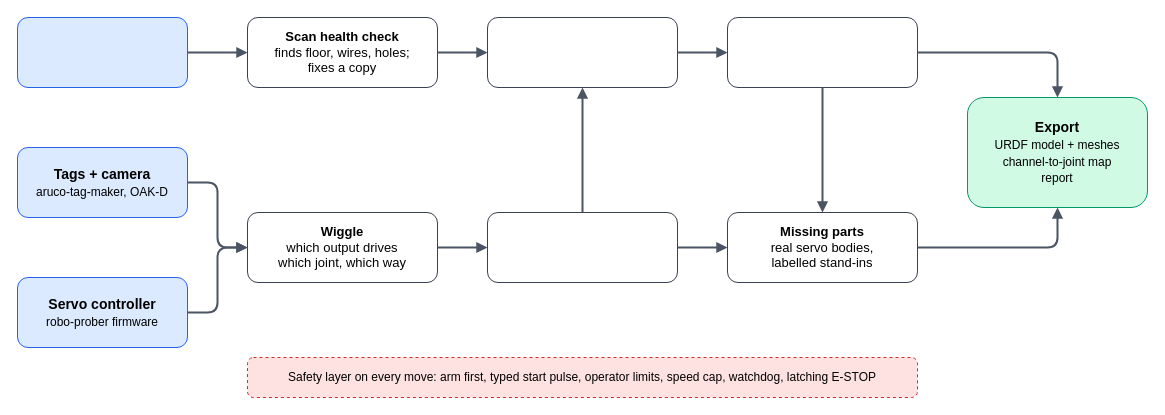
This 1165x415 diagram has some shape labels left out. The box of each missing label's shape, as (x1, y1, x2, y2) in pixels:
3D scan OBJ, PLY, STL or GLB file: (16, 16, 188, 88)
Cut links split the scan into moving parts: (726, 16, 918, 88)
Range of motion real axis, pivot and safe limits: (486, 212, 678, 282)
Register line the scan up with the camera: (486, 16, 678, 88)
